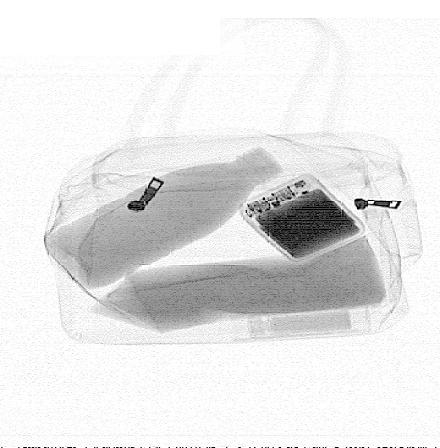Powerbank: (238, 172, 367, 265)
